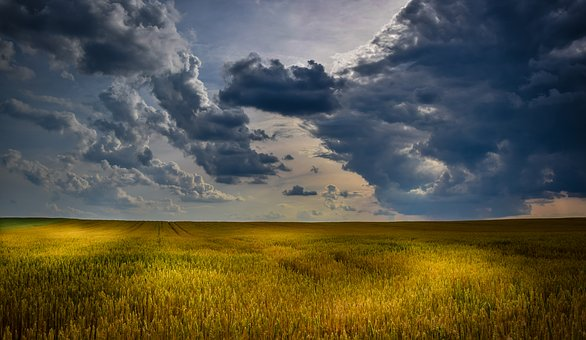field: (5, 221, 578, 340)
sky: (2, 1, 586, 219)
